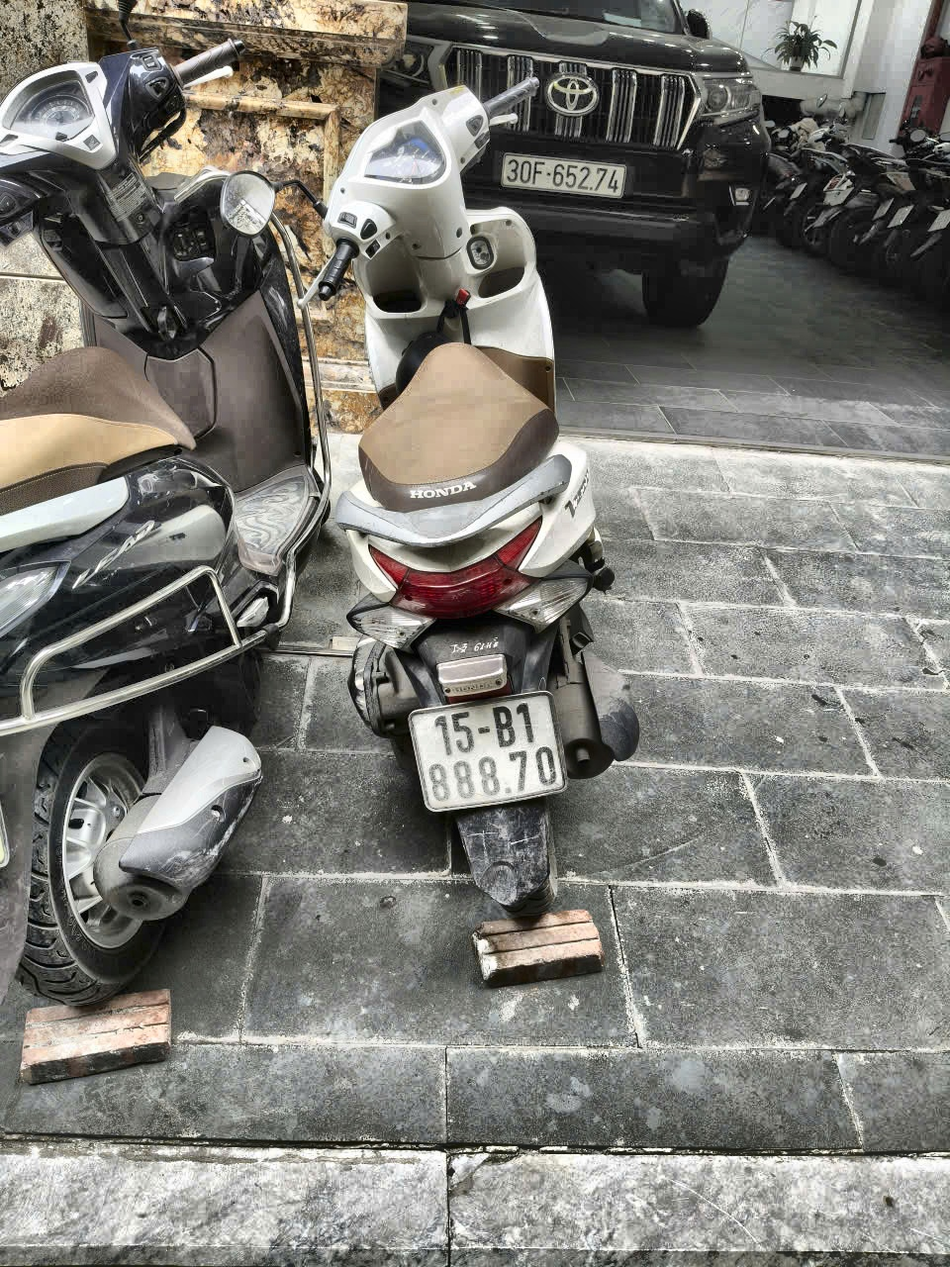plate: (486, 2, 650, 33)
